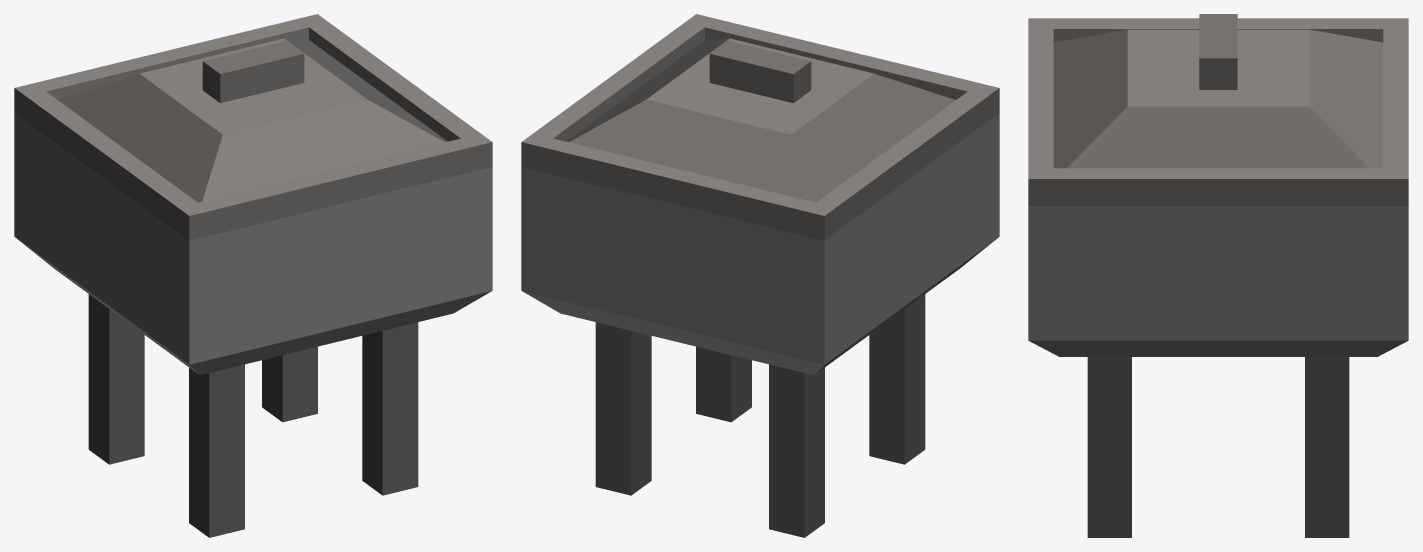
File: SM_Prop_Pot_04.glb
3 views of the same model, side by side, from view 1: azimuth 30°, elevation 25°; view 2: azimuth 150°, elevation 25°; view 3: azimuth 270°, elevation 25° (orthographic). The views are drawn at different scales.
Parts seen in each view (by area): view 1: SM_Prop_Pot_04; view 2: SM_Prop_Pot_04; view 3: SM_Prop_Pot_04.
Boxes of the visible parts, x1=… form: SM_Prop_Pot_04: x1=14, y1=14, x2=492, y2=537; SM_Prop_Pot_04: x1=521, y1=14, x2=999, y2=537; SM_Prop_Pot_04: x1=1028, y1=14, x2=1408, y2=537.
Bounding box in the file's own units: 0.0098 × 0.0127 × 0.0098.
1 material, 1 textured.
